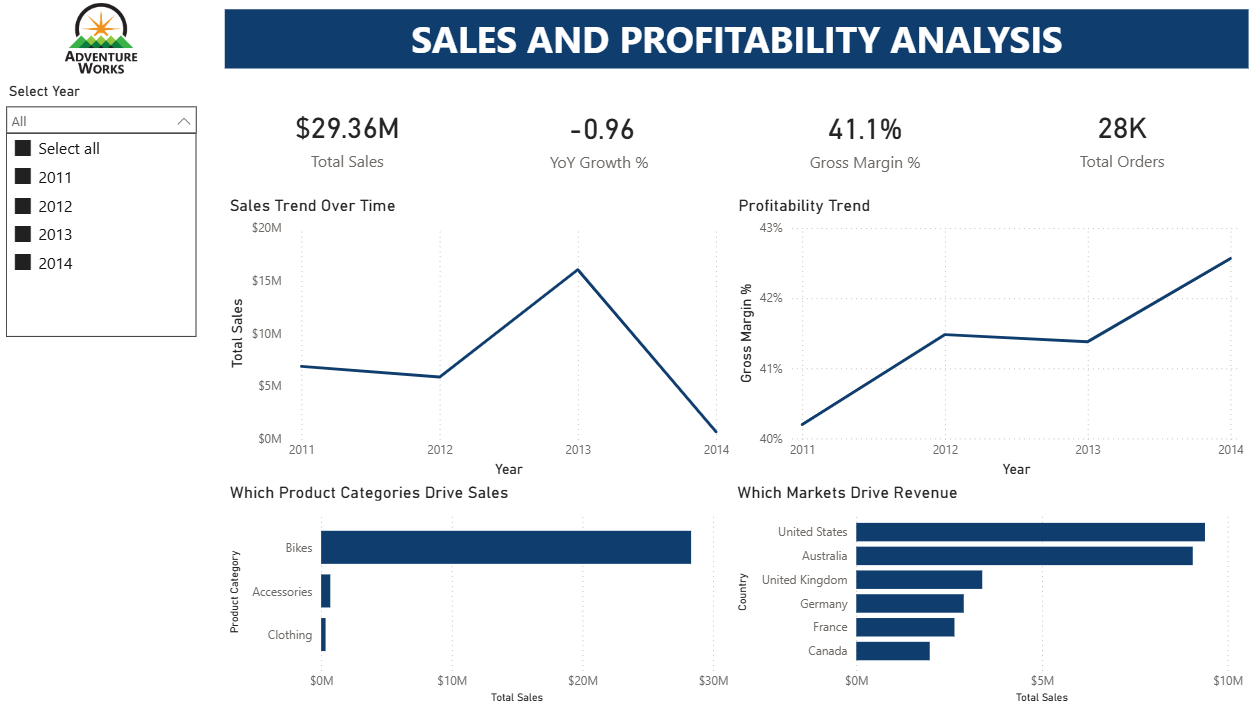

This screenshot's page, from the dashboard's own definition file:
{"tool":"powerbi","page":{"name":"Page 1","canvas":[1280,720],"ordinal":0},"visuals":[{"type":"card","fields":{"Values":["_Measures.Total Sales"]},"box":[231.4,81.4,248.6,118.6],"z":0},{"type":"card","fields":{"Values":["_Measures.YoY Growth % (KPI)"]},"box":[480,81.7,266.7,118.3],"z":1000},{"type":"card","fields":{"Values":["_Measures.Total Orders"]},"box":[1012.9,81.4,255.7,118.6],"z":2000},{"type":"card","fields":{"Values":["_Measures.Gross Margin %"]},"box":[746.7,81.7,266.7,118.3],"z":3000},{"type":"lineChart","title":"Sales Trend Over Time","fields":{"Category":["DimDate.Year"],"Y":["_Measures.Total Sales"]},"box":[231.4,200,515.7,290],"z":4000},{"type":"lineChart","title":"Profitability Trend","fields":{"Category":["DimDate.Year"],"Y":["_Measures.Gross Margin %"]},"box":[747.1,200,521.4,290],"z":5000},{"type":"clusteredBarChart","title":"Which Product Categories Drive Sales","fields":{"Category":["DimProductCategory.Product Category"],"Y":["_Measures.Total Sales"]},"box":[231.4,490,515.7,230],"z":6000},{"type":"clusteredBarChart","title":"Which Markets Drive Revenue","fields":{"Category":["DimGeography.Country"],"Y":["_Measures.Total Sales"]},"box":[745.7,490,522.9,230],"z":7000},{"type":"slicer","fields":{"Values":["DimDate.Year"]},"box":[0,81.4,212.9,638.6],"z":8000},{"type":"image","box":[0,0,212.9,81.4],"z":9000},{"type":"textbox","box":[231.4,11.4,1037.1,60],"z":9001}]}

Visuals, with their boxes in screenshot pixels (x1, y1, x2, y2), scaled from the page's 1280x720 canvas onto the 1255x706 screenshot:
card - _Measures.Total Sales: (227, 80, 471, 196)
card - _Measures.YoY Growth % (KPI): (471, 80, 732, 196)
card - _Measures.Total Orders: (993, 80, 1244, 196)
card - _Measures.Gross Margin %: (732, 80, 994, 196)
"Sales Trend Over Time" lineChart: (227, 196, 733, 480)
"Profitability Trend" lineChart: (733, 196, 1244, 480)
"Which Product Categories Drive Sales" clusteredBarChart: (227, 480, 733, 705)
"Which Markets Drive Revenue" clusteredBarChart: (731, 480, 1244, 705)
slicer - DimDate.Year: (0, 80, 209, 705)
image: (0, 0, 209, 80)
textbox: (227, 11, 1244, 70)
